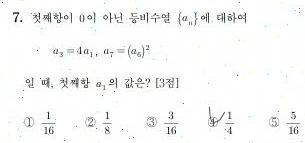choice: (207, 109, 221, 128)
not-choice: (21, 115, 36, 129), (83, 115, 97, 129), (145, 115, 158, 129), (267, 115, 281, 128)
